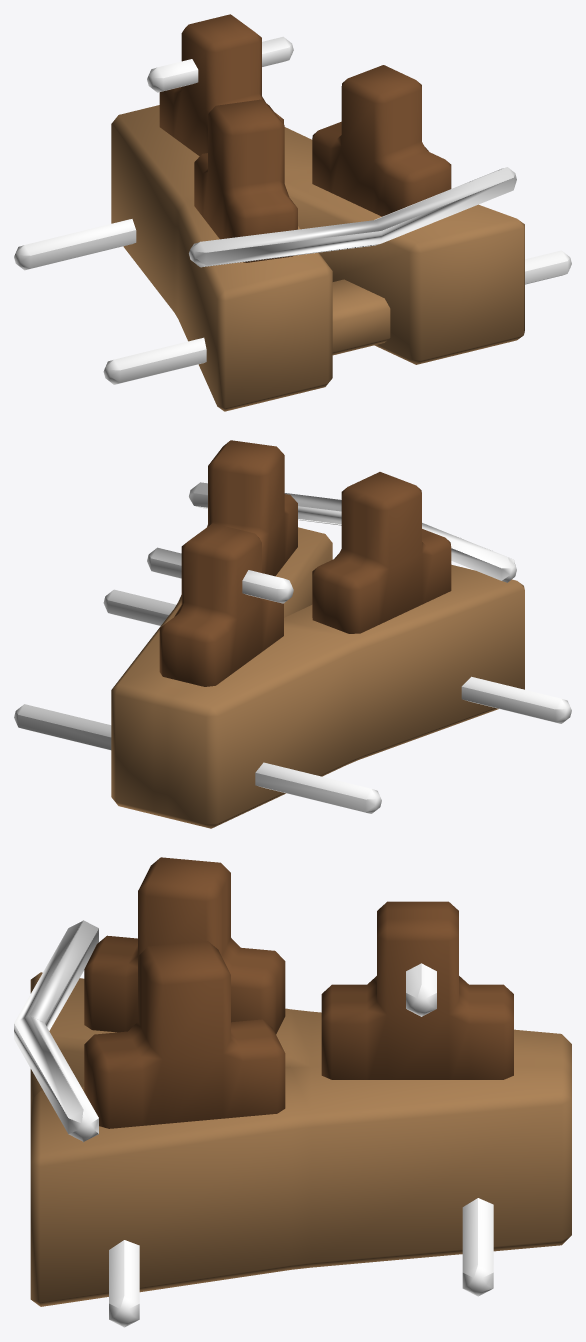
The model's file is chassis.002.glb.
3 renders of one model, top to bottom at view 1: azimuth 30°, elevation 25°; view 2: azimuth 150°, elevation 25°; view 3: azimuth 270°, elevation 25°, orthographic. The views are drawn at different scales.
Visible parts, largest first — view 1: chassis.002; view 2: chassis.002; view 3: chassis.002.
Part boxes in pixels (bbox=[...]): chassis.002: bbox=[14, 14, 571, 411]; chassis.002: bbox=[14, 440, 571, 828]; chassis.002: bbox=[14, 857, 571, 1327].
Bounding box in the file's own units: 3.29 × 1.63 × 2.72.
